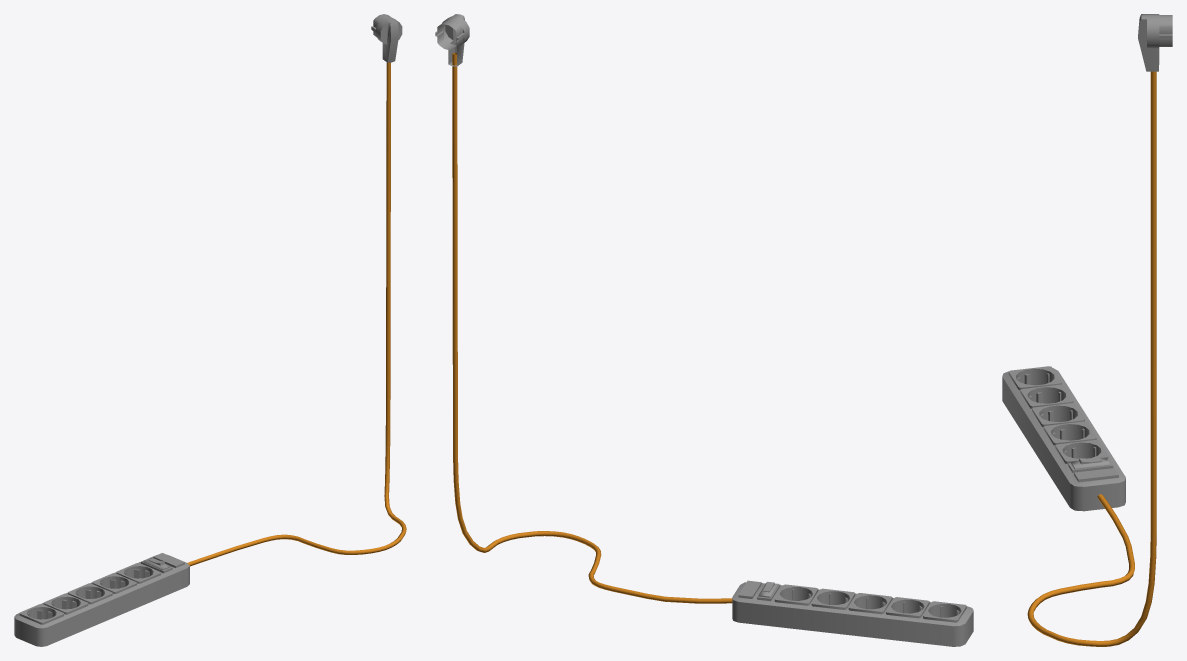
File: SM_NetWorkFilter_01_A.FBX
The picture shows the model from 3 angles, left to right: view 1: azimuth 30°, elevation 25°; view 2: azimuth 150°, elevation 25°; view 3: azimuth 270°, elevation 25°; orthographic projection. The views are drawn at different scales.
Parts seen in each view (by area): view 1: SM_NetWorkFilter_01_A; view 2: SM_NetWorkFilter_01_A; view 3: SM_NetWorkFilter_01_A.
Part boxes in pixels (x1,y1,x2,y2): SM_NetWorkFilter_01_A: (14,14,406,646); SM_NetWorkFilter_01_A: (435,14,973,646); SM_NetWorkFilter_01_A: (1002,14,1172,646).
Size of what is drawn, in the model's own units: 94.39 by 103 by 24.88.
